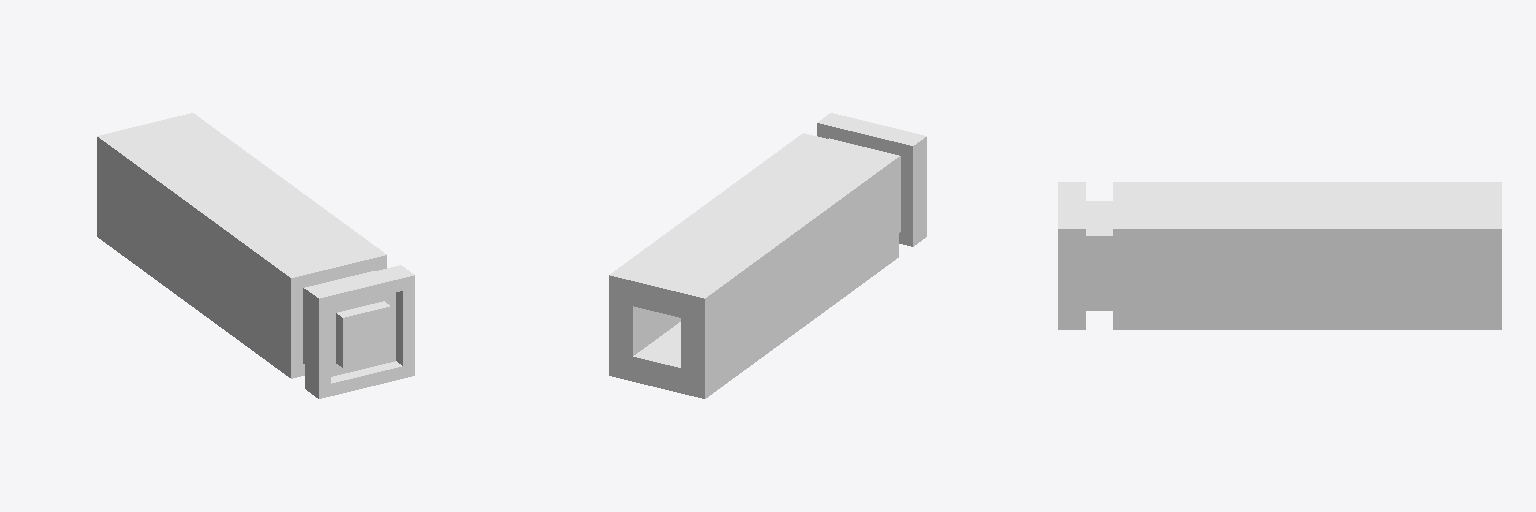
File: RifleCasings.obj
3 renders of one model, left to right at view 1: azimuth 30°, elevation 25°; view 2: azimuth 150°, elevation 25°; view 3: azimuth 270°, elevation 25°, orthographic.
Parts seen in each view (by area): view 1: object 1; view 2: object 1; view 3: object 1.
Boxes of the visible parts, x1=… form: object 1: x1=97, y1=113, x2=414, y2=398; object 1: x1=609, y1=113, x2=926, y2=398; object 1: x1=1058, y1=182, x2=1501, y2=329.
Size of the model in its own units: 0.8 by 0.8 by 3.2.